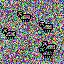sheep: (17, 11, 31, 22), (39, 21, 53, 32), (39, 47, 53, 58), (3, 28, 16, 39), (42, 41, 56, 51)
